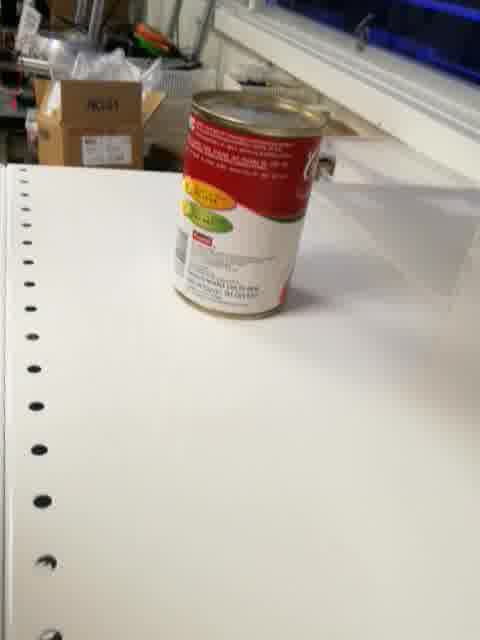tomatosoup: (170, 88, 328, 320)
